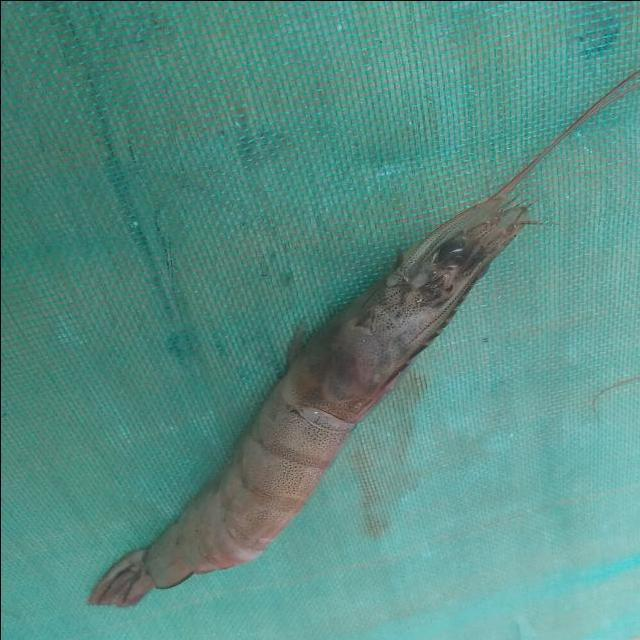shrimp: (88, 196, 527, 605)
